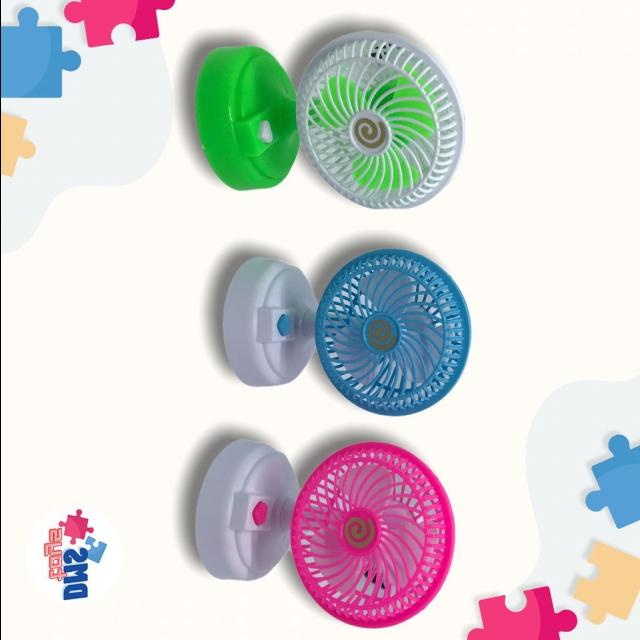fan: (174, 19, 475, 635)
